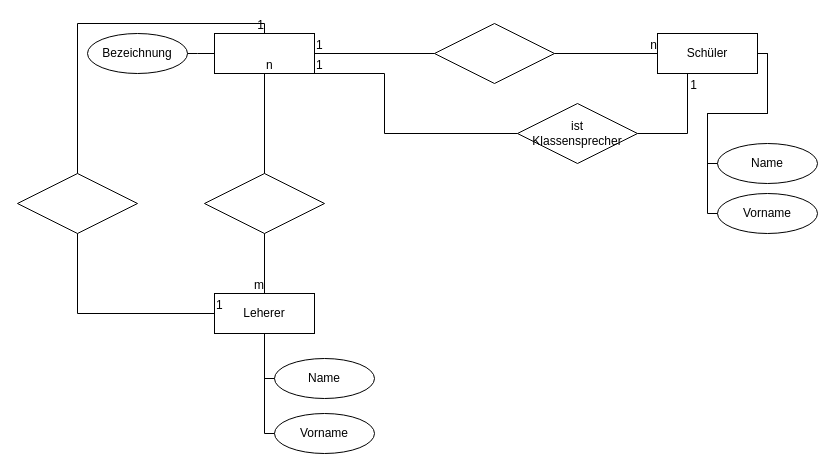
The diagram is 835 pixels wide and 471 high, and some of its shapes have lost their labels. The centre of each missing label's shape, as x and y in pixels:
hat: point (494, 53)
ist Klassenleiter: point (77, 203)
Klasse: point (264, 53)
unterrichtet: point (264, 203)
